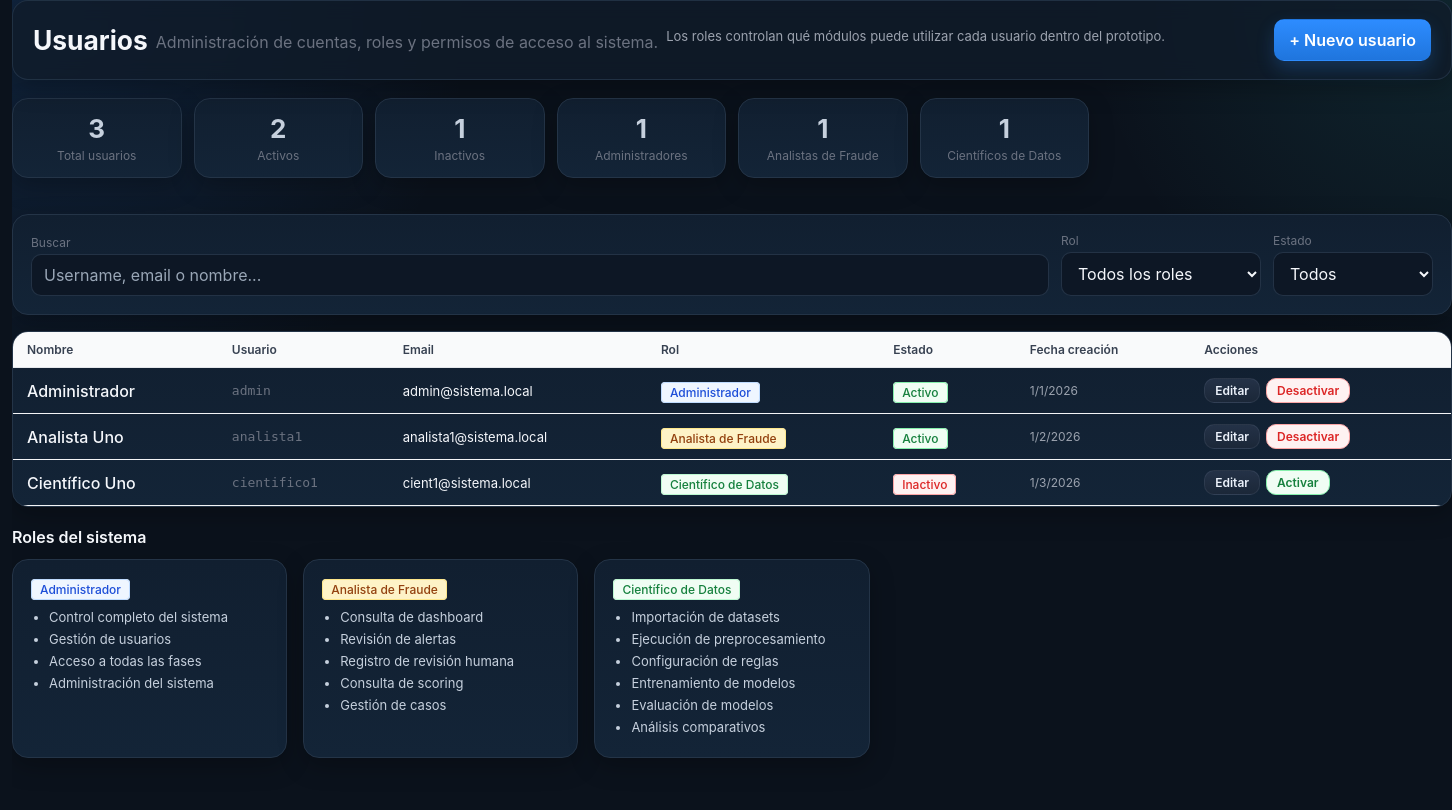
Test: Pantalla Usuarios › filtra por búsqueda de username
The image size is (1452, 810).
expect the text "Analista Uno" is shown: met, box [13,414,218,460]
In the field with test id "filter-search": [540, 275] box [31,254,1049,296], type "analista1"
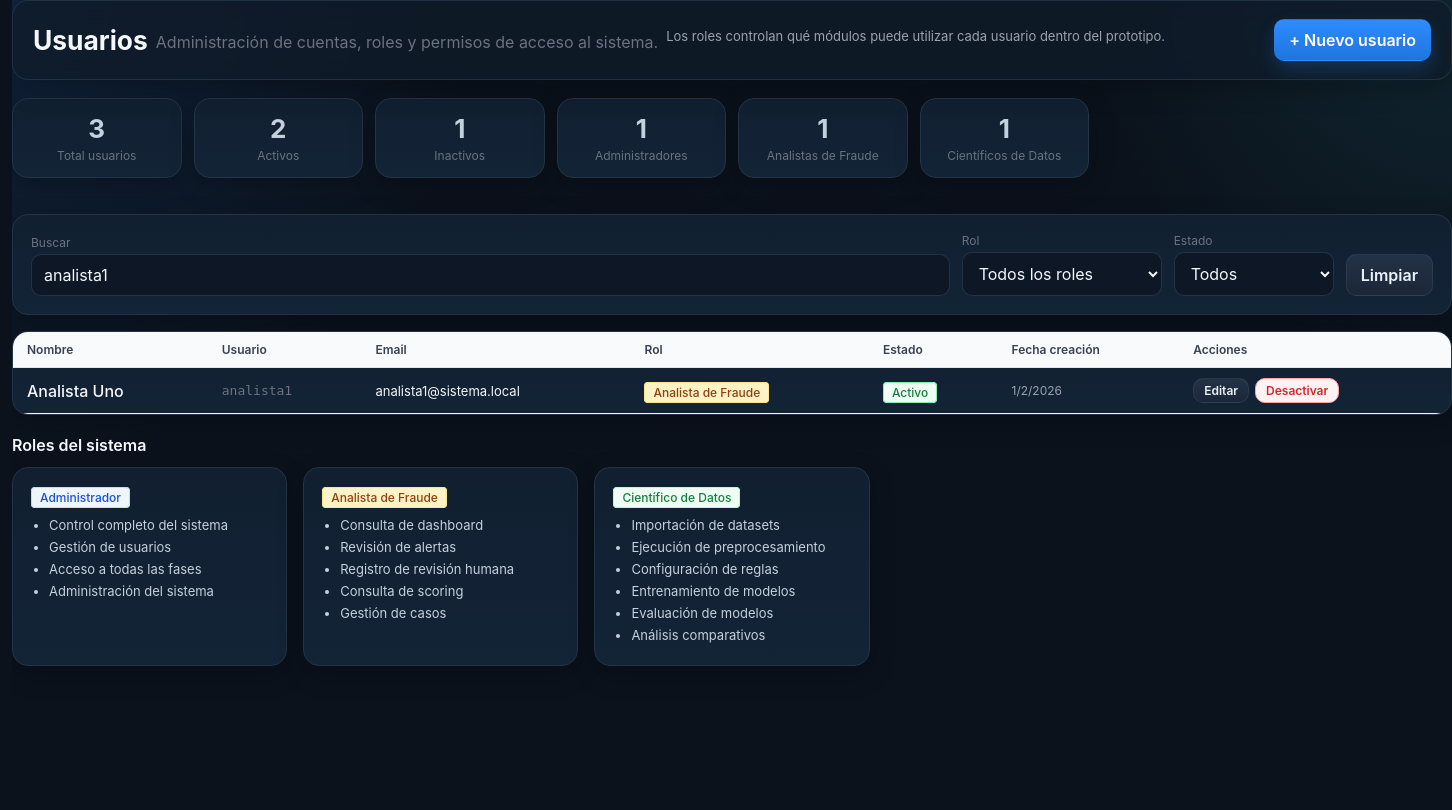
expect the text "Analista Uno" is shown: met, box [13,368,208,414]
expect the text "admin@sistema.local" is gone: met
